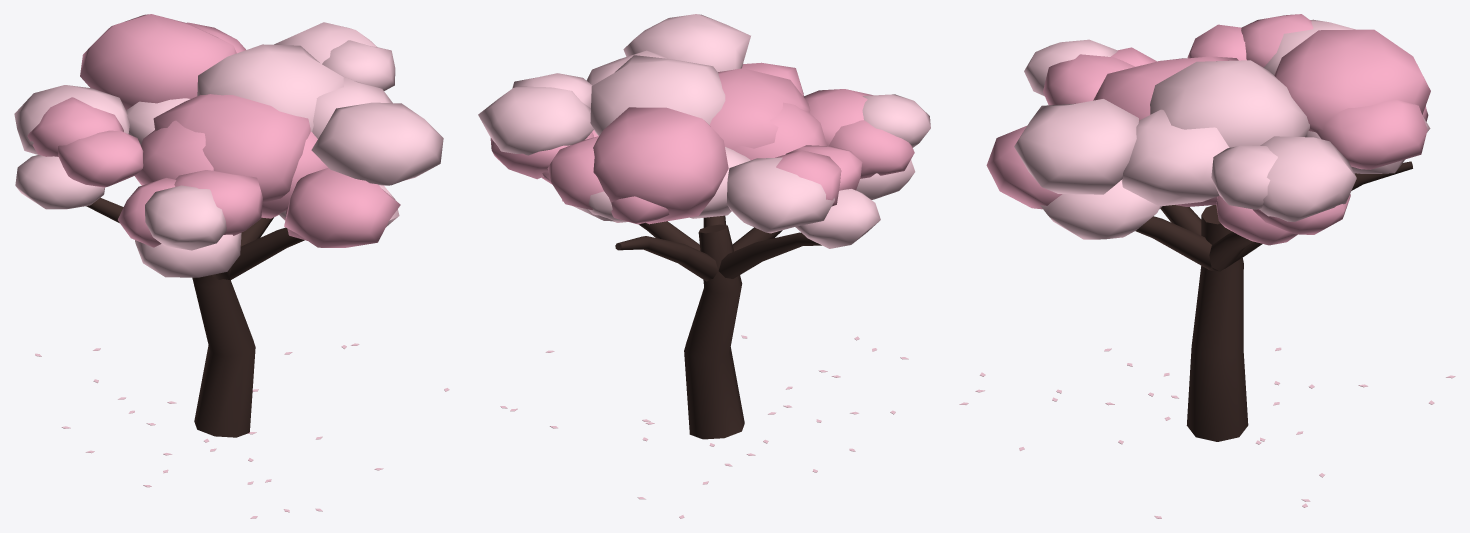
File: tree_sakura.glb
3 views of the same model, side by side, from view 1: azimuth 30°, elevation 25°; view 2: azimuth 150°, elevation 25°; view 3: azimuth 270°, elevation 25° (orthographic). The views are drawn at different scales.
Visible parts, largest first — view 1: tree_sakura; view 2: tree_sakura; view 3: tree_sakura.
Boxes of the visible parts, <box> form: tree_sakura: <box>14,14,449,518</box>; tree_sakura: <box>478,14,930,518</box>; tree_sakura: <box>959,14,1455,518</box>.
Size of the model in its own units: 4.53 by 4.16 by 4.84.
